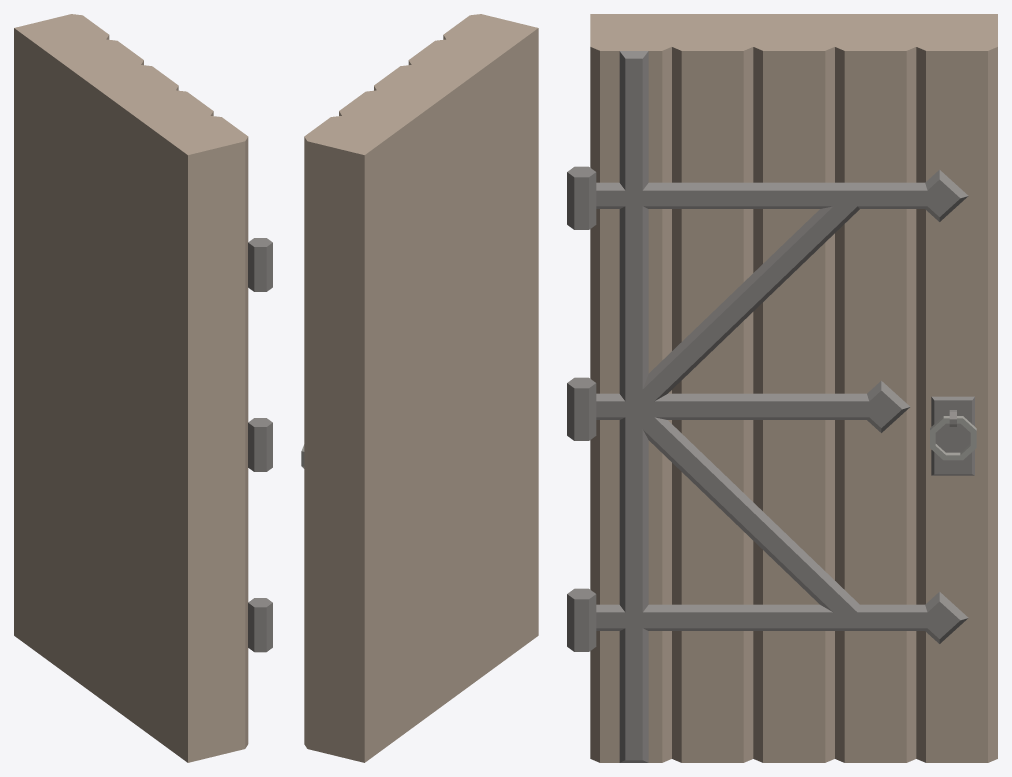
The model's file is Wall_Prop_Door_Ornate.glb.
The picture shows the model from 3 angles, left to right: view 1: azimuth 30°, elevation 25°; view 2: azimuth 150°, elevation 25°; view 3: azimuth 270°, elevation 25°; orthographic projection. The views are drawn at different scales.
Parts seen in each view (by area): view 1: object2, object5; view 2: object2; view 3: object2, object5, object1, object4.
Boxes of the visible parts, <box> form: object2: <box>14,14,248,762</box>; object5: <box>248,238,272,652</box>; object2: <box>304,14,538,762</box>; object2: <box>590,14,997,762</box>; object5: <box>567,51,968,762</box>; object1: <box>931,396,974,475</box>; object4: <box>930,416,976,460</box>.
Bounding box in the file's own units: 0.1817 × 1.35 × 0.74.
